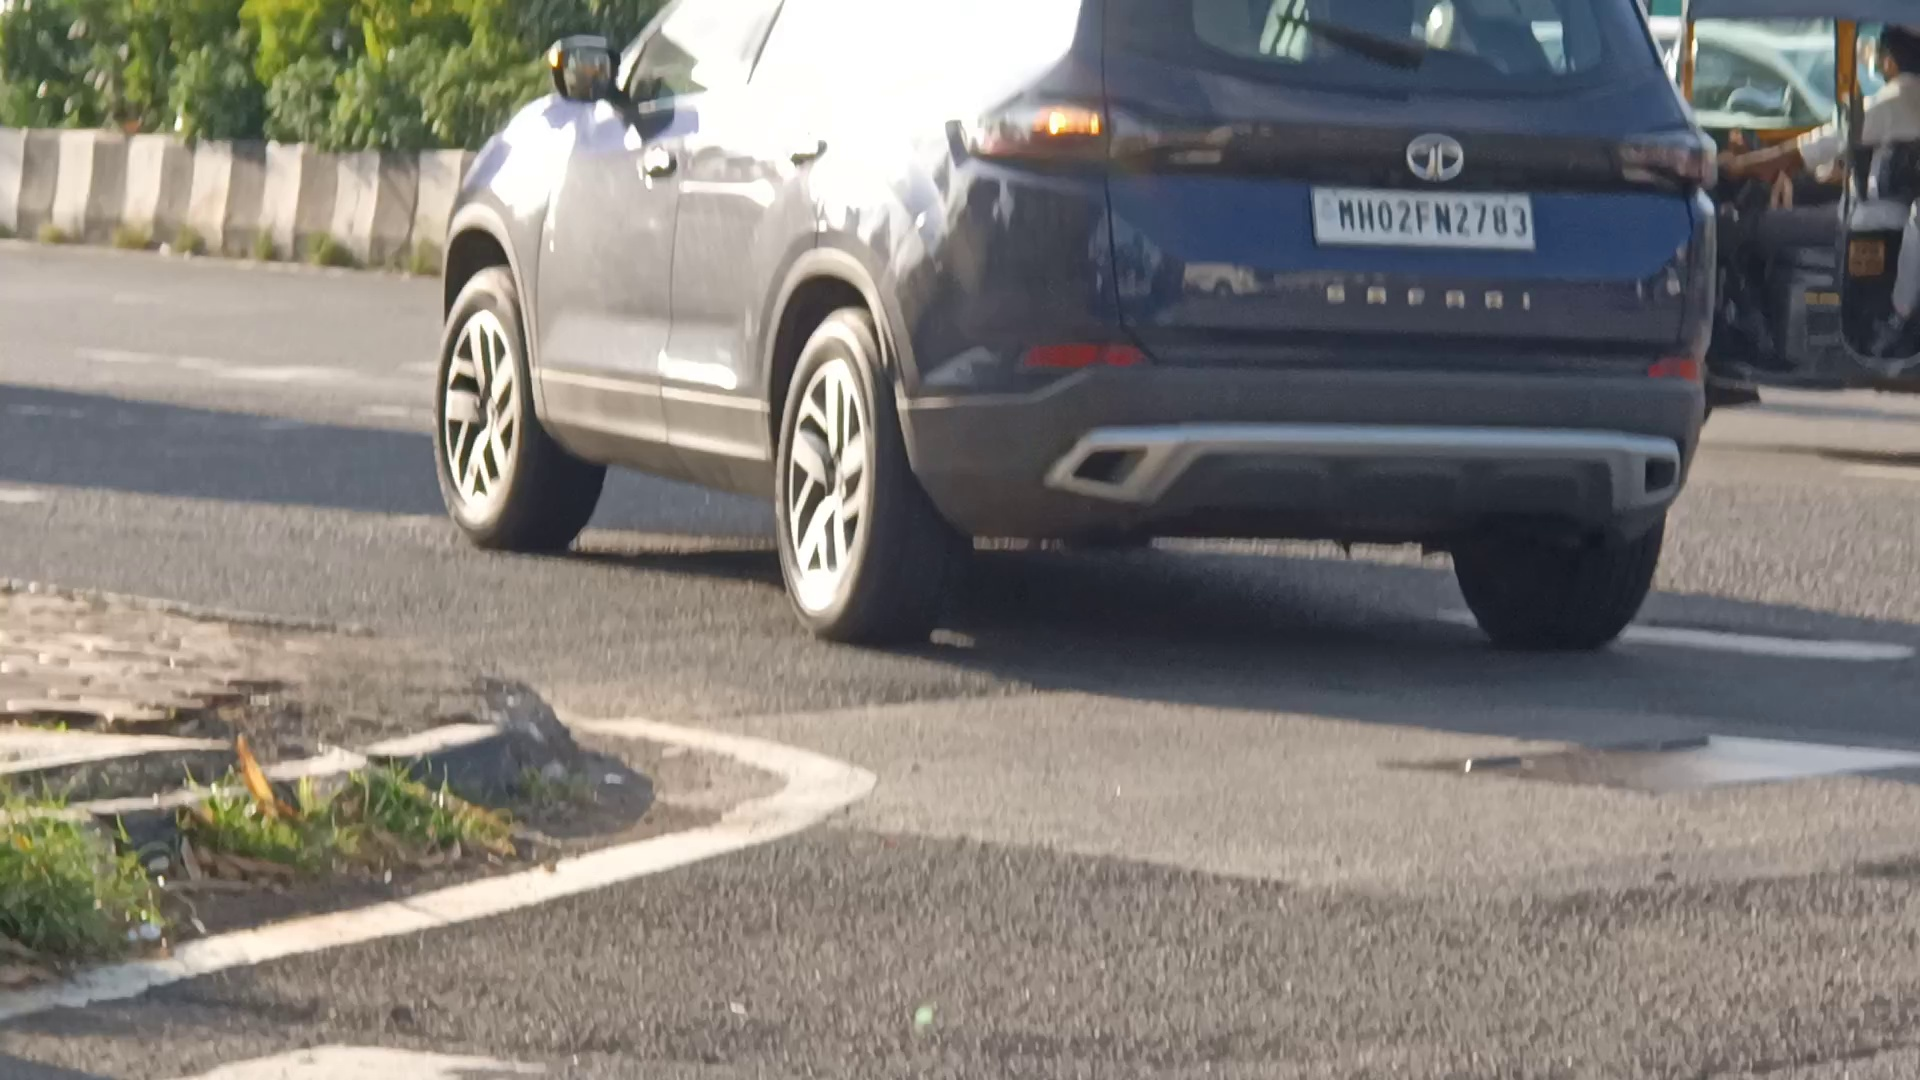MH02FN2783: (1313, 186, 1538, 253)
